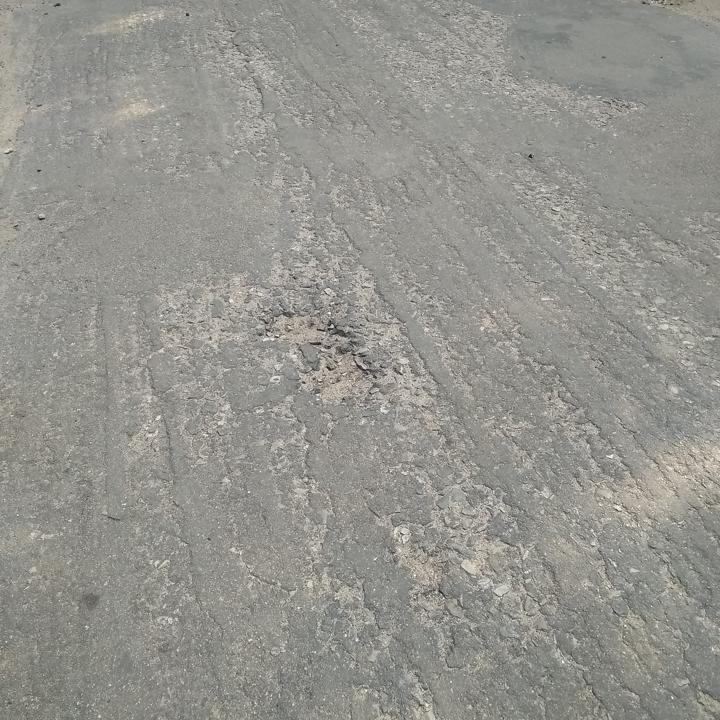pothole: (257, 306, 382, 409)
